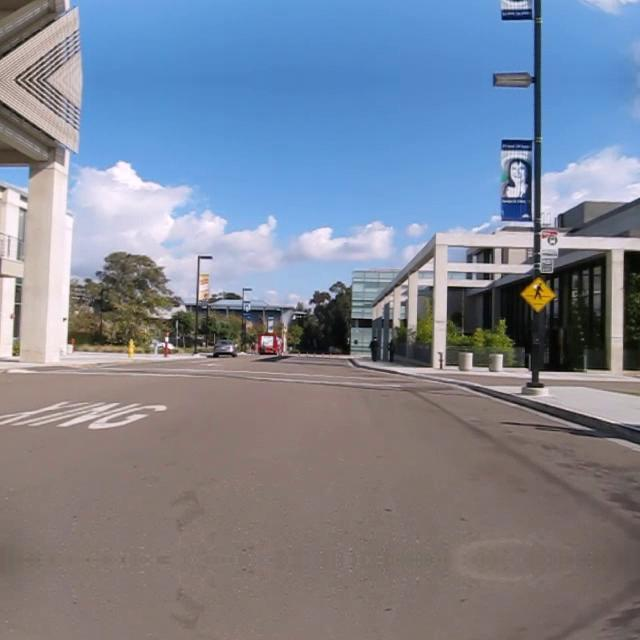pedestrianCrossing: (518, 276, 556, 312)
